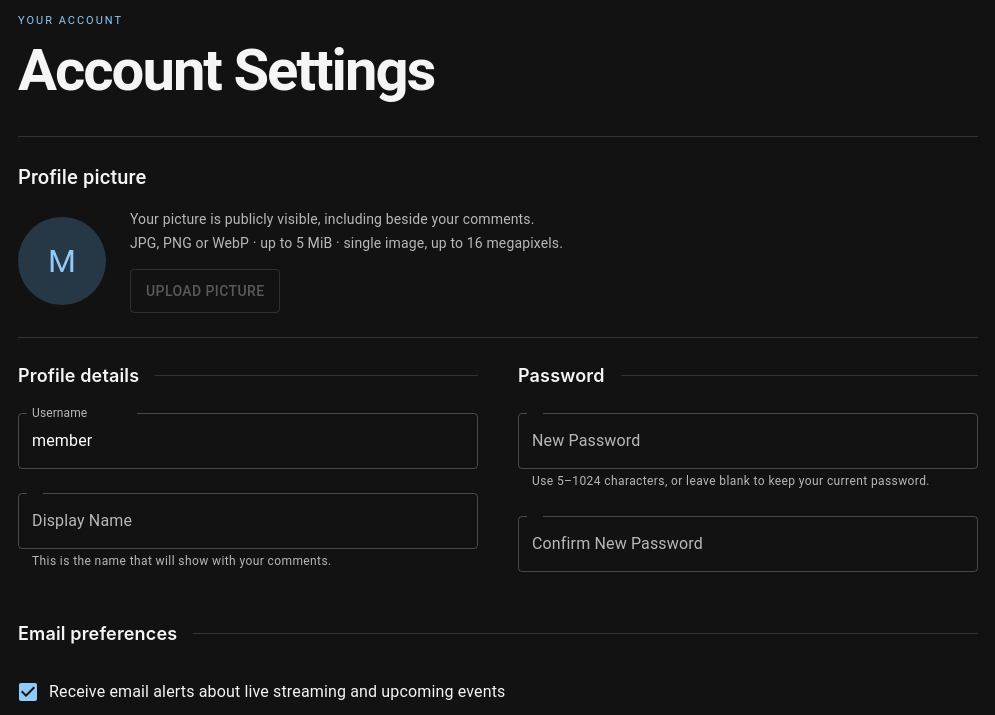
Test: prevents unverified opt-in but allows an existing opt-in to be removed
Click the checkbox labelled "Receive email alerts about live streaming and upcoming events".
click(261, 692)  # box x1=16 y1=680 x2=506 y2=704
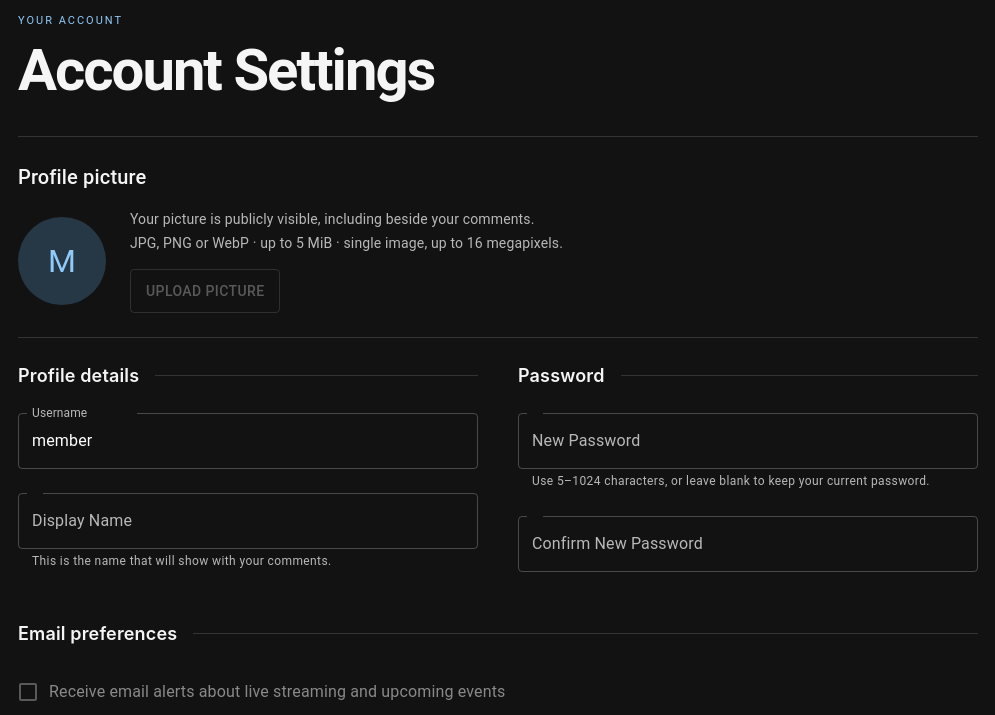
Result: the checkbox labelled "Receive email alerts about live streaming and upcoming events" is not checked at x1=16 y1=680 x2=506 y2=704
Result: the checkbox labelled "Receive email alerts about live streaming and upcoming events" is disabled at x1=16 y1=680 x2=506 y2=704
